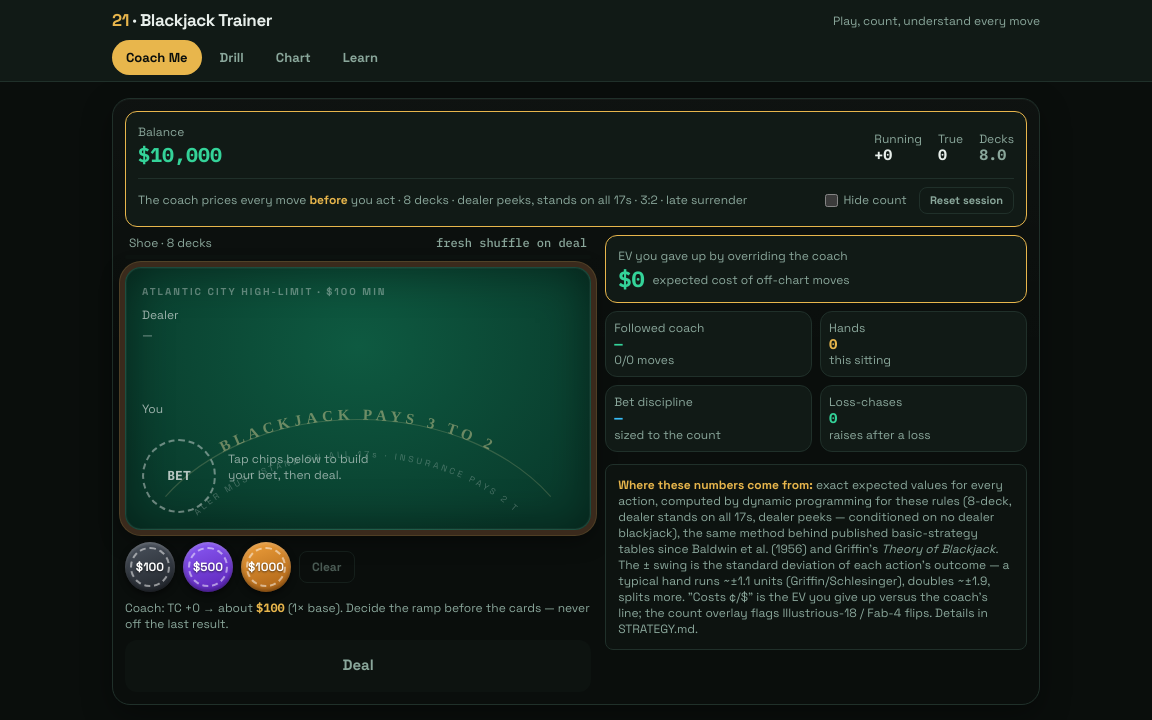
App smoke test › Drill flashcards render a scenario with four move buttons
This screenshot has width=1152, height=720.
Click the button "Drill".
click(232, 57)  # box [206,40,258,75]
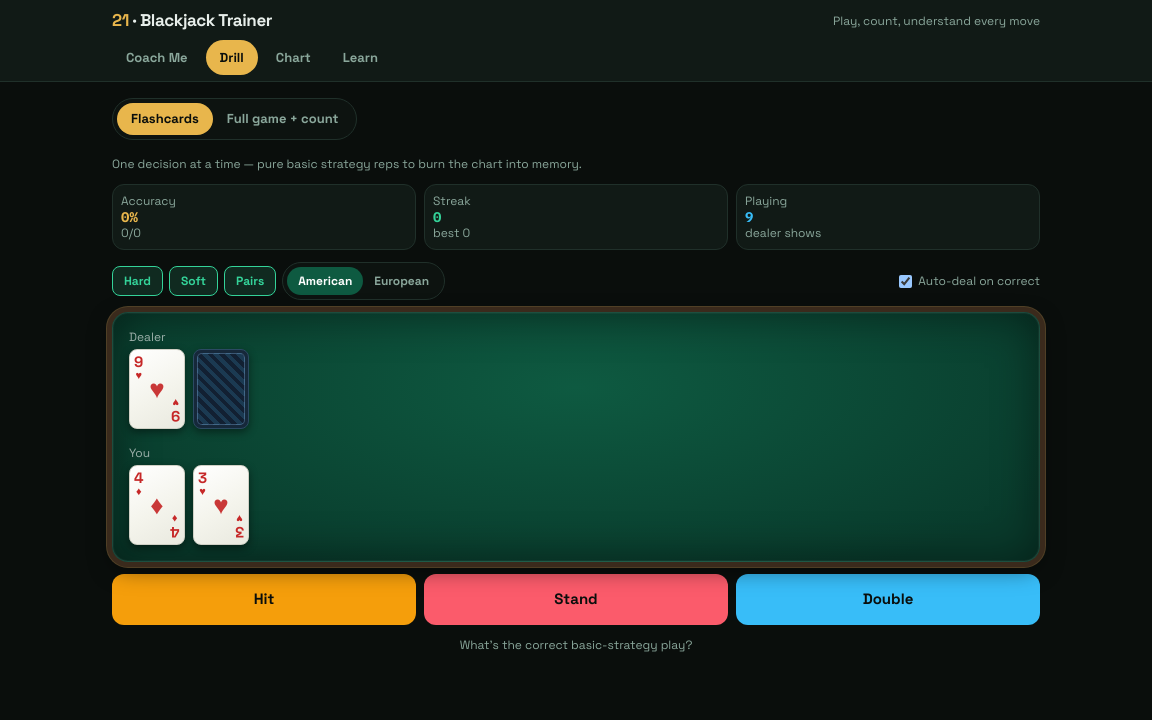
Result: the text "What's the correct basic-strategy play?" is shown at [460,637,692,653]
